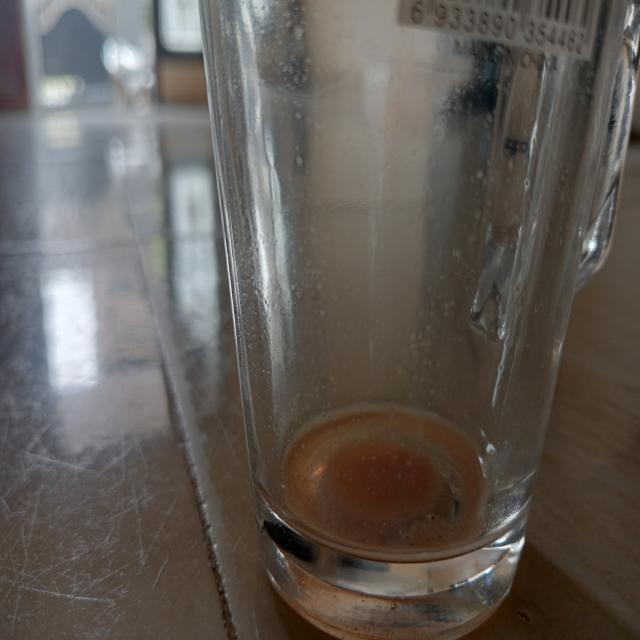glass-VX4N: (195, 0, 640, 640)
